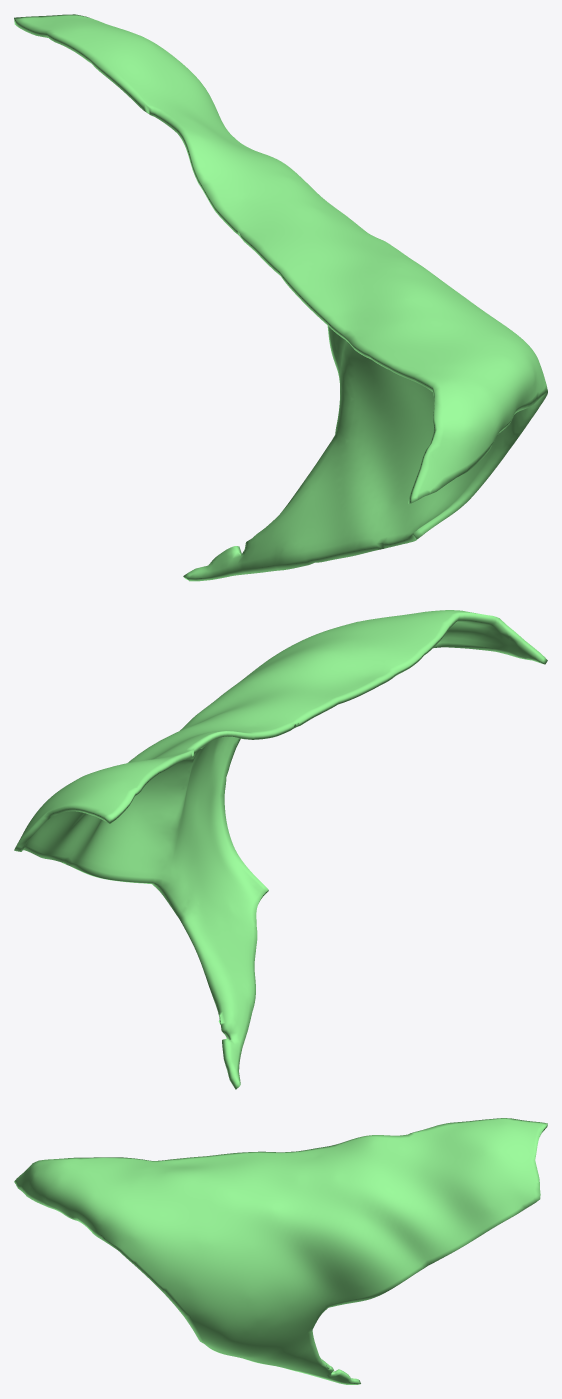
Rendered from External_Obliques_Muscle_Left.fbx.
3 renders of one model, top to bottom at view 1: azimuth 30°, elevation 25°; view 2: azimuth 150°, elevation 25°; view 3: azimuth 270°, elevation 25°, orthographic. The views are drawn at different scales.
Visible parts, largest first — view 1: External_Obliques_Muscle_Left; view 2: External_Obliques_Muscle_Left; view 3: External_Obliques_Muscle_Left.
Boxes of the visible parts, box(x1,y1,x2,y2) form: External_Obliques_Muscle_Left: box(14, 14, 547, 581); External_Obliques_Muscle_Left: box(14, 610, 547, 1089); External_Obliques_Muscle_Left: box(14, 1118, 547, 1384).
Size of the model in its own units: 115 by 196 by 359.
